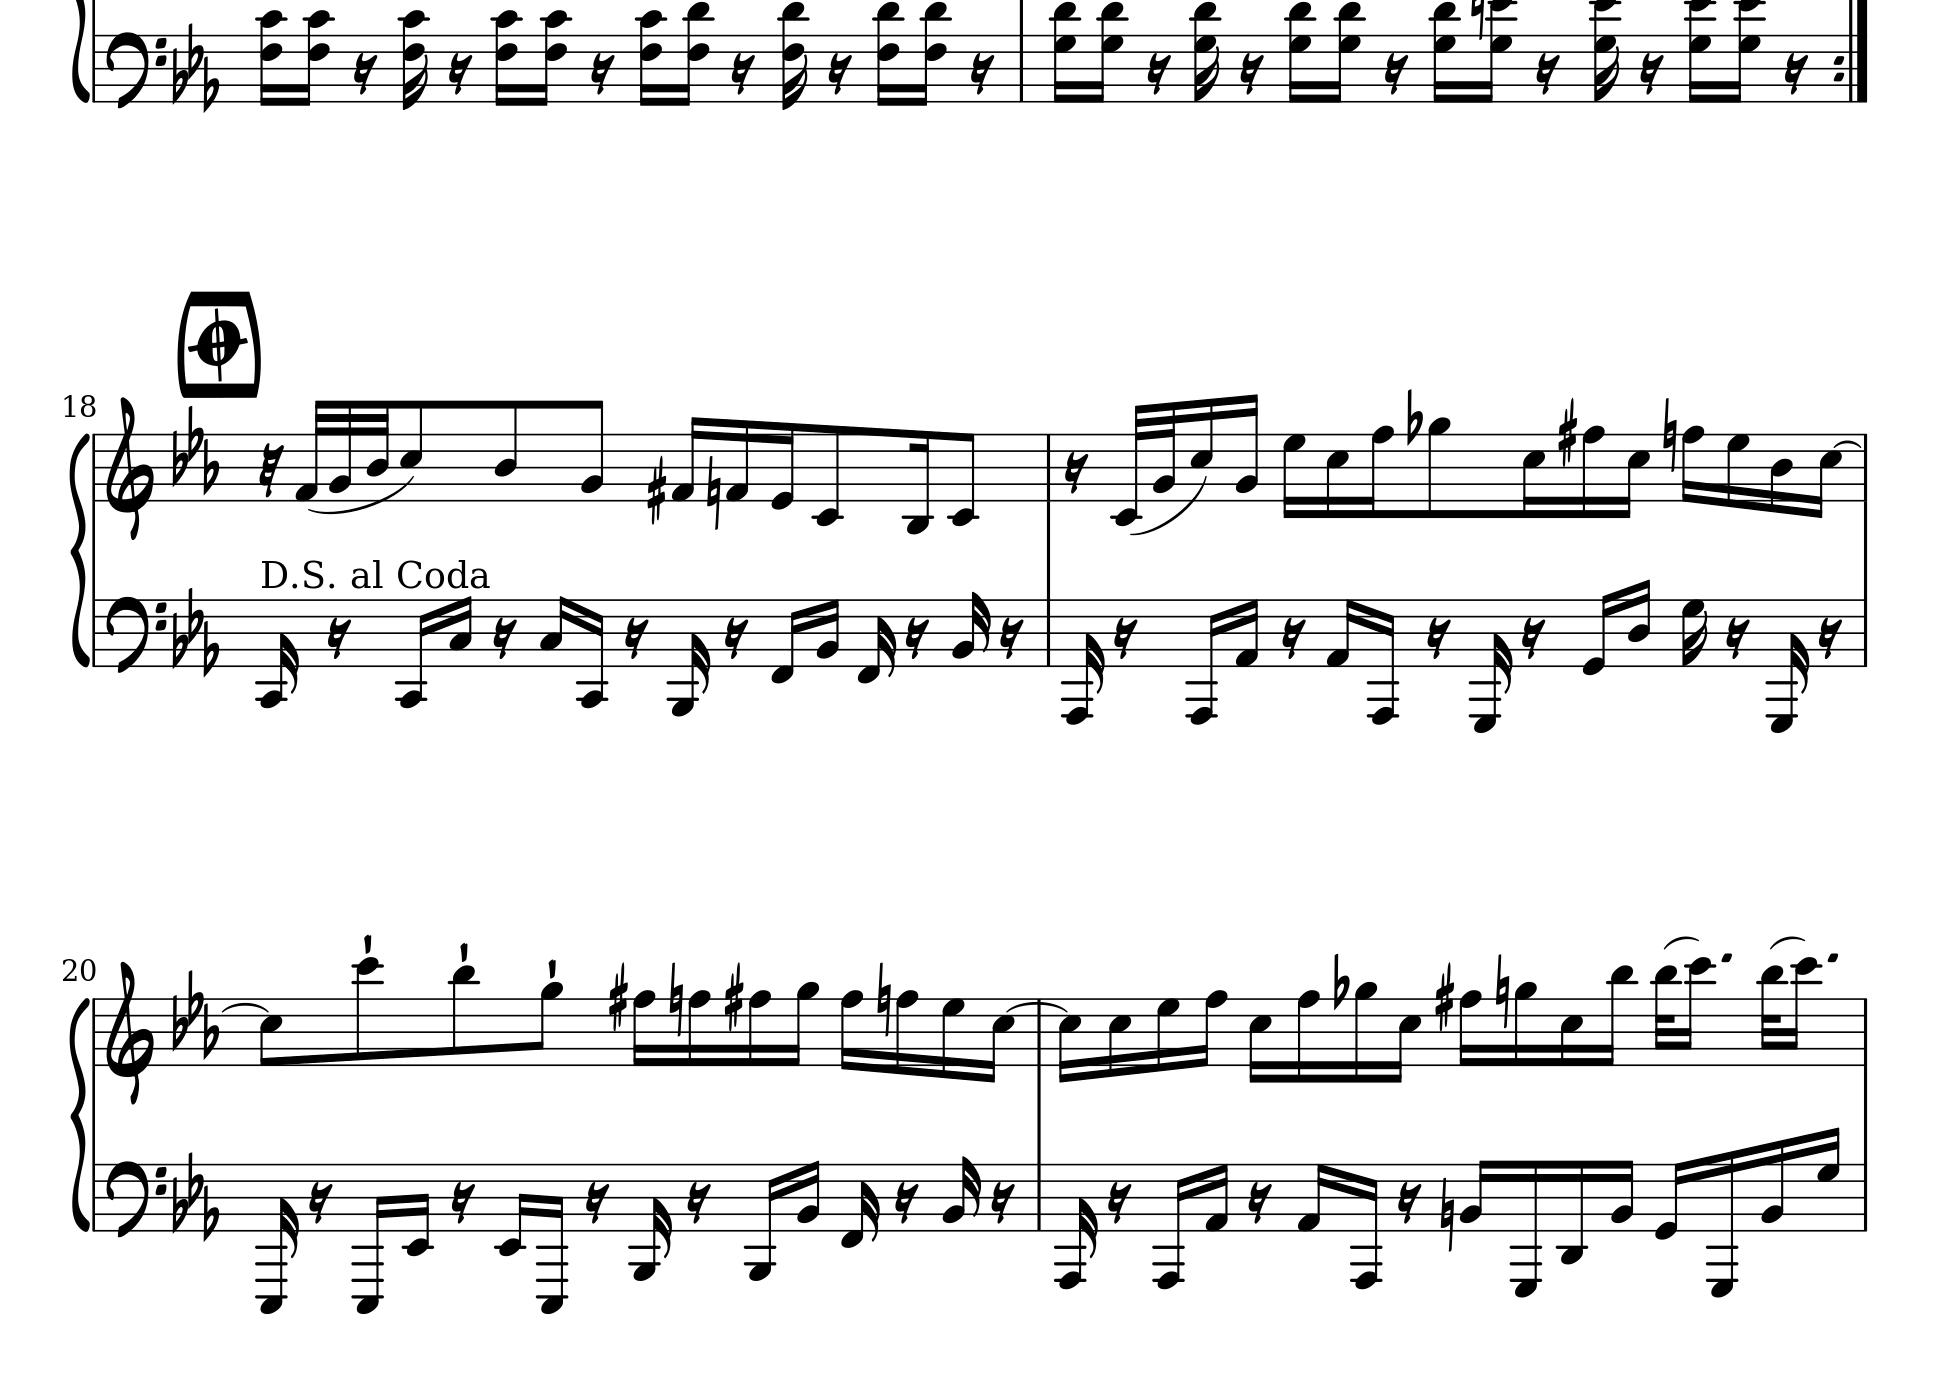0: (79, 954, 96, 982)
1: (61, 391, 75, 418)
16_-1: (856, 597, 895, 685), (840, 1161, 879, 1249), (769, 598, 802, 685)
16_-2: (496, 1162, 529, 1258), (402, 1161, 432, 1258)
16_-3: (1557, 1159, 1588, 1266), (903, 427, 931, 537)
16_-4: (256, 597, 300, 711), (394, 597, 433, 709), (577, 595, 607, 711)
16_-5: (630, 1161, 673, 1284), (667, 597, 709, 718), (744, 1162, 781, 1282)
16_-6: (1062, 597, 1105, 727), (1056, 1159, 1098, 1291), (1153, 1159, 1191, 1290), (1186, 595, 1222, 727), (1368, 595, 1401, 727), (1351, 1159, 1383, 1291)
16_-7: (1470, 597, 1513, 735), (1765, 598, 1809, 736), (1707, 1149, 1740, 1299), (1512, 1156, 1543, 1297)
16_-9: (256, 1161, 298, 1315), (535, 1161, 568, 1315)
16_0: (1653, 1159, 1689, 1242), (1579, 591, 1614, 676), (769, 420, 796, 511)
16_1: (670, 414, 702, 502), (1296, 1161, 1329, 1233), (1326, 595, 1357, 667), (726, 417, 751, 502), (1233, 597, 1260, 669), (1203, 1161, 1230, 1233)
16_11: (1599, 963, 1635, 1066)
16_12: (1786, 955, 1821, 1068), (1681, 955, 1716, 1066)
16_2: (949, 589, 990, 667), (940, 1153, 981, 1231), (1233, 391, 1260, 502), (1761, 1138, 1788, 1234), (1459, 1158, 1491, 1231), (1611, 1156, 1638, 1234), (795, 1158, 822, 1234), (814, 597, 841, 667)
16_3: (538, 594, 570, 667), (448, 594, 475, 667)
16_4: (1626, 577, 1653, 667), (1770, 430, 1794, 514)
16_5: (1389, 996, 1423, 1084), (1810, 430, 1843, 519), (1618, 433, 1651, 519), (984, 996, 1015, 1084), (1189, 394, 1215, 502), (1323, 430, 1350, 520), (1521, 432, 1548, 520), (1248, 994, 1273, 1084), (1057, 996, 1083, 1084), (1107, 994, 1132, 1078), (1558, 994, 1585, 1068)
16_6_10: (253, 9, 288, 108), (300, 7, 334, 106), (399, 9, 433, 108), (489, 7, 523, 106), (538, 7, 573, 106), (634, 7, 669, 106)
16_6_11: (673, 4, 715, 109), (771, 1, 813, 106), (1284, 1, 1320, 106), (873, 1, 907, 108), (918, 1, 952, 108), (1330, 1, 1365, 108), (1048, 1, 1083, 106), (1093, 1, 1128, 106), (1188, 1, 1222, 106), (1428, 1, 1462, 106)
16_7: (1815, 1125, 1843, 1234), (1281, 430, 1306, 520), (1680, 597, 1710, 669), (940, 994, 964, 1081), (1725, 430, 1750, 511), (1155, 994, 1180, 1074)
16_8: (1359, 424, 1395, 520), (1195, 988, 1228, 1068), (1579, 423, 1605, 520), (1296, 988, 1321, 1084), (894, 988, 919, 1077), (745, 988, 772, 1068), (838, 988, 864, 1072), (1680, 424, 1705, 505), (1458, 988, 1482, 1069), (631, 988, 655, 1068), (687, 988, 711, 1068)
16_9: (786, 979, 817, 1068), (1353, 979, 1378, 1084), (1513, 979, 1539, 1068)
2: (60, 955, 79, 982)
32_-2: (1111, 400, 1147, 529)
32_1: (292, 397, 325, 502)
32_11: (1651, 963, 1680, 1066), (1758, 964, 1785, 1066)
32_2: (1152, 399, 1177, 505), (327, 397, 352, 501)
32_4: (364, 397, 391, 502)
8: (78, 391, 96, 418)
8_-2: (811, 423, 843, 526), (949, 430, 978, 526)
8_-9: (352, 1162, 391, 1315)
8_11: (448, 961, 478, 1066)
8_12: (352, 955, 382, 1066)
8_2: (579, 397, 606, 502)
8_4: (493, 397, 520, 502)
8_5: (397, 397, 423, 501), (259, 996, 283, 1068)
8_9: (1425, 415, 1452, 519), (532, 979, 564, 1066)
A_F: (169, 21, 220, 109), (169, 585, 219, 673)
Brace: (67, 994, 90, 1233), (69, 430, 90, 667)
Coda: (192, 306, 244, 379)
DSalcoda: (259, 556, 490, 594)
E_F: (171, 967, 219, 1060), (171, 405, 219, 496), (169, 1149, 219, 1237)
Fclef: (103, 28, 168, 111), (103, 594, 168, 676), (103, 1158, 166, 1240)
Flat: (1404, 385, 1423, 448), (1330, 951, 1350, 1014)
Gclef: (103, 394, 156, 541), (103, 958, 154, 1107)
Natural: (1660, 397, 1678, 475), (874, 961, 892, 1039), (1494, 952, 1512, 1030), (705, 453, 721, 531), (1440, 1174, 1456, 1252), (667, 961, 684, 1038), (1470, 1, 1486, 42)
Rests16: (256, 439, 285, 499), (588, 51, 616, 97), (967, 51, 996, 96), (1638, 51, 1665, 97), (490, 615, 517, 661), (729, 49, 754, 97), (826, 51, 853, 96), (1383, 51, 1410, 96), (622, 616, 649, 661), (448, 1180, 475, 1225), (892, 1180, 919, 1225), (447, 51, 472, 97), (1146, 51, 1171, 97), (1239, 51, 1264, 97), (1534, 51, 1560, 97), (1521, 615, 1546, 661), (685, 1179, 711, 1225), (990, 1179, 1015, 1225), (1396, 1179, 1422, 1225), (1425, 616, 1452, 660), (583, 1180, 610, 1224), (351, 51, 376, 96), (1063, 450, 1089, 495), (325, 616, 351, 661), (723, 616, 748, 661), (999, 615, 1024, 660), (1281, 615, 1306, 660), (1246, 1180, 1272, 1225), (1113, 615, 1137, 661), (1818, 615, 1843, 658), (307, 1180, 333, 1224), (904, 615, 928, 660), (1725, 615, 1749, 660), (1107, 1180, 1131, 1224)
Rests4: (1782, 49, 1809, 96)
RightRepeatSign: (1833, 34, 1870, 102)
Sharp: (645, 454, 667, 525), (1555, 397, 1578, 468), (721, 964, 744, 1032), (1434, 961, 1455, 1033), (607, 963, 628, 1032)
Single_barline: (1032, 999, 1050, 1066), (1857, 997, 1873, 1065), (1857, 1162, 1873, 1230), (1041, 433, 1057, 499), (1041, 598, 1057, 664), (1857, 600, 1873, 664), (1858, 433, 1873, 501), (1032, 1162, 1047, 1228), (1014, 34, 1029, 99), (88, 435, 102, 499), (88, 997, 100, 1066), (88, 600, 100, 664), (88, 1164, 100, 1228), (88, 37, 100, 100)
Slur: (1128, 475, 1212, 535), (307, 472, 415, 516), (1005, 1000, 1068, 1012), (1768, 934, 1809, 952), (220, 1000, 268, 1014), (1663, 934, 1701, 949), (1833, 436, 1861, 448)
dot: (1824, 949, 1842, 966), (1719, 949, 1734, 964)
